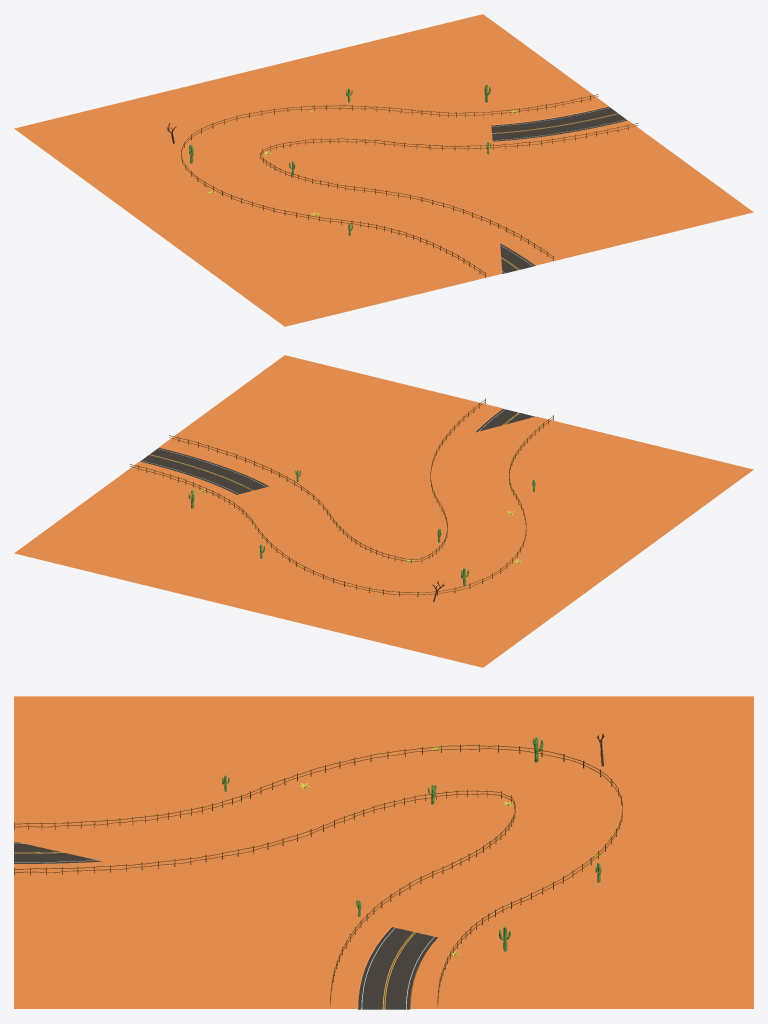
The model's file is DesertRoadLeft4.fbx.
The picture shows the model from 3 angles, top to bottom: view 1: azimuth 30°, elevation 25°; view 2: azimuth 150°, elevation 25°; view 3: azimuth 270°, elevation 25°; orthographic projection. The views are drawn at different scales.
Parts seen in each view (by area): view 1: DRL4Road, DRL4WoodFenceLeft, DRL4WoodFenceRight; view 2: DRL4Road, DRL4WoodFenceLeft, DRL4WoodFenceRight; view 3: DRL4Road, DRL4WoodFenceLeft, DRL4WoodFenceRight.
Part boxes in pixels (x1=…): DRL4Road: x1=14, y1=14, x2=753, y2=326; DRL4WoodFenceLeft: x1=181, y1=94, x2=598, y2=277; DRL4WoodFenceRight: x1=259, y1=123, x2=637, y2=261; DRL4Road: x1=14, y1=355, x2=753, y2=667; DRL4WoodFenceLeft: x1=130, y1=415, x2=553, y2=596; DRL4WoodFenceRight: x1=169, y1=398, x2=485, y2=563; DRL4Road: x1=14, y1=696, x2=753, y2=1009; DRL4WoodFenceLeft: x1=14, y1=744, x2=622, y2=1005; DRL4WoodFenceRight: x1=14, y1=789, x2=515, y2=1005.
Size of what is drawn, in the model's own units: 20000 by 930 by 20000.
